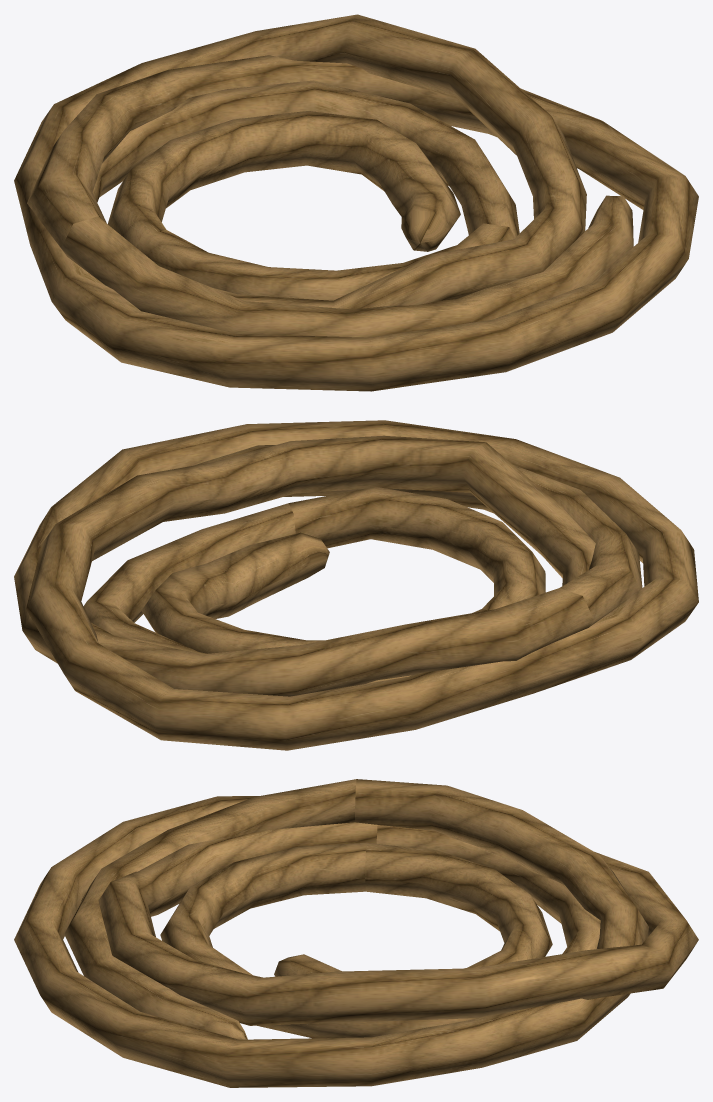
Rendered from rope.fbx.
3 renders of one model, top to bottom at view 1: azimuth 30°, elevation 25°; view 2: azimuth 150°, elevation 25°; view 3: azimuth 270°, elevation 25°, orthographic. The views are drawn at different scales.
Parts seen in each view (by area): view 1: Torus.003; view 2: Torus.003; view 3: Torus.003.
Part boxes in pixels (<box>): Torus.003: <box>14,14,698,391</box>; Torus.003: <box>14,420,698,750</box>; Torus.003: <box>14,779,698,1087</box>.
Size of the model in its own units: 0.4056 by 0.0688 by 0.446.
